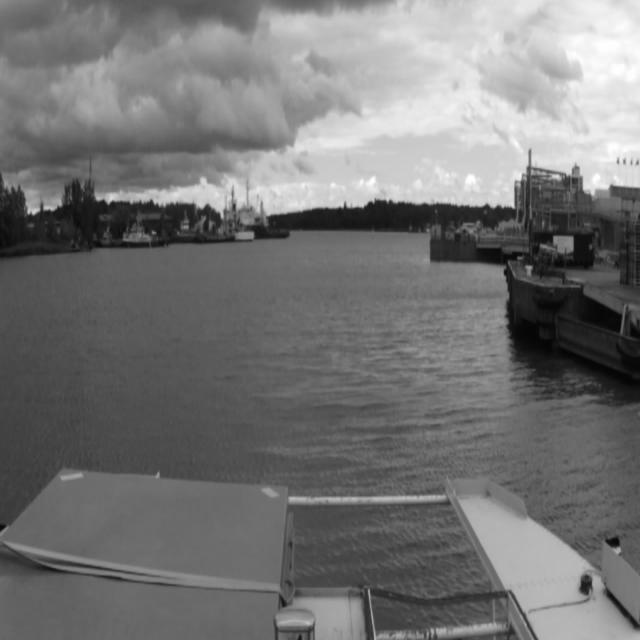ship: (222, 184, 254, 243), (255, 195, 290, 241)
